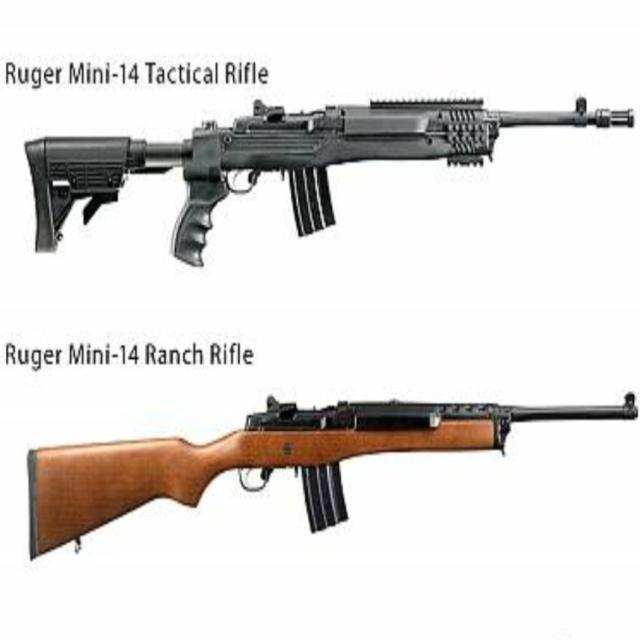Rifle: (24, 98, 637, 269), (28, 394, 640, 532)
